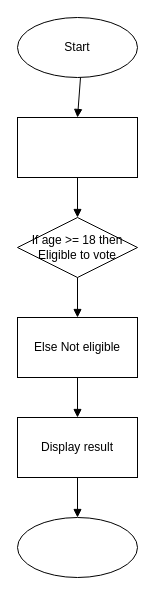
Some shapes in this 155 by 595 pixel diagram are drawn without their labels. Each missing label, with the centre of its shape:
End: point (77, 547)
Input age: point (77, 147)
